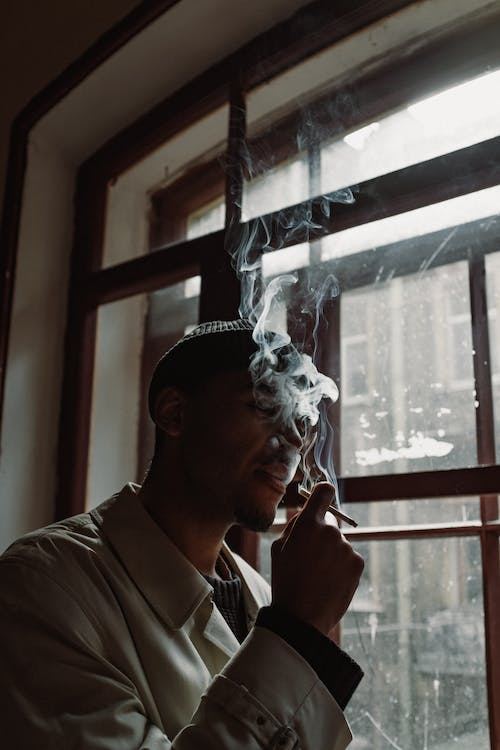cigarette: (296, 484, 360, 529)
